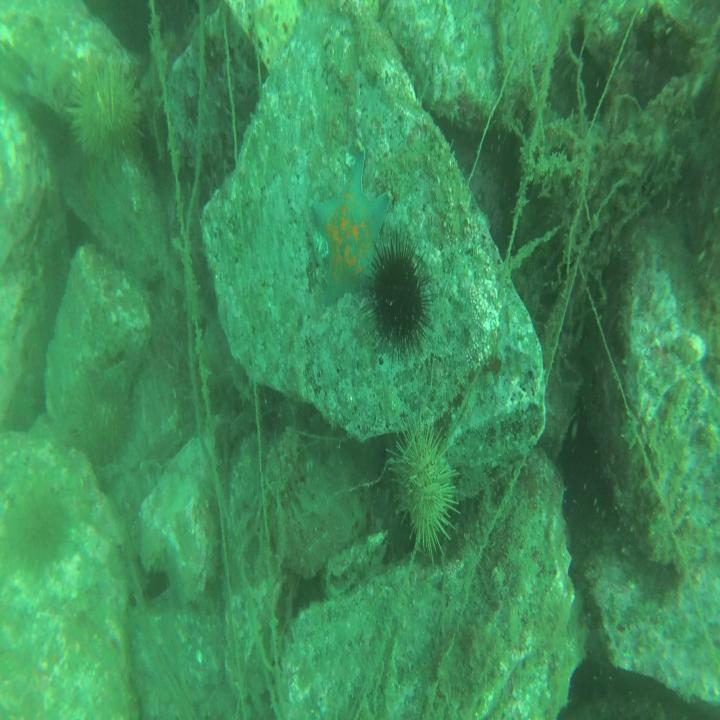echinus: (384, 416, 464, 568), (65, 62, 154, 177), (365, 225, 435, 365), (5, 470, 76, 588), (74, 372, 131, 473)
starfish: (308, 142, 396, 308)
